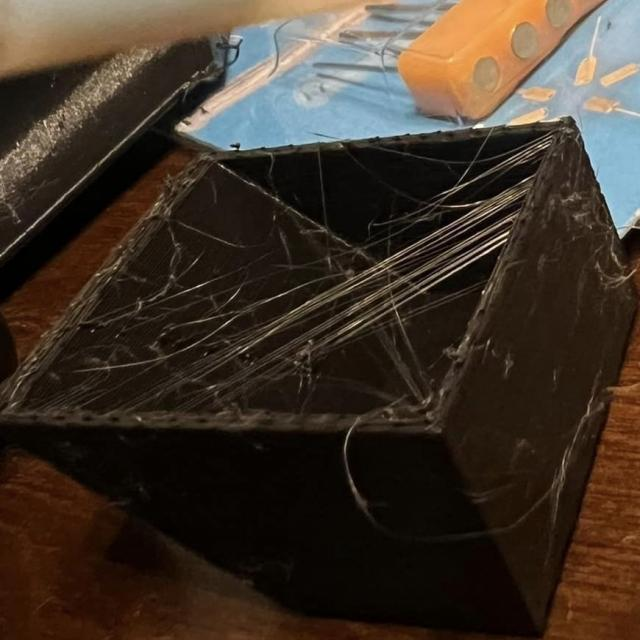Stringing: (14, 133, 571, 424)
